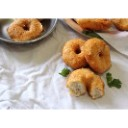vada: (84, 38, 112, 71), (62, 37, 88, 69), (8, 18, 42, 38)
